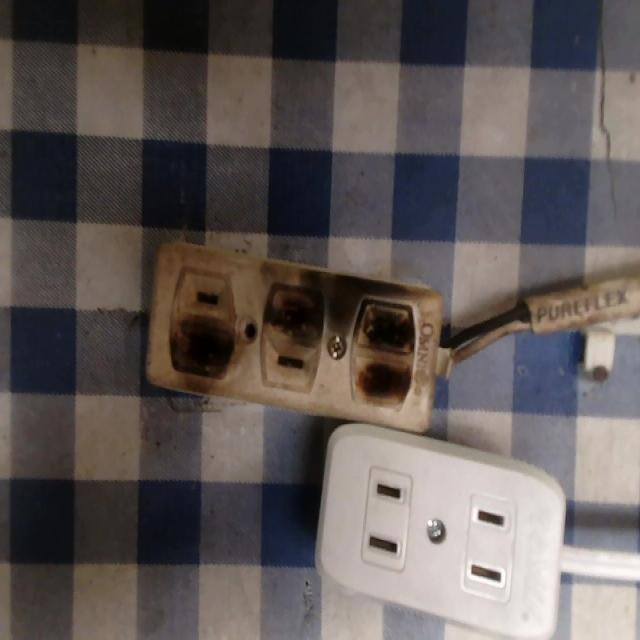-: (353, 284, 418, 411), (166, 305, 247, 399), (258, 257, 330, 355)
